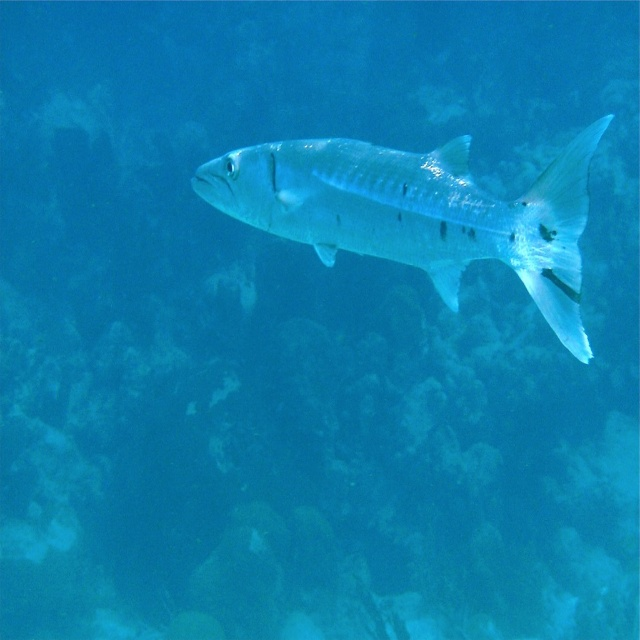Fish: (191, 113, 615, 364)
